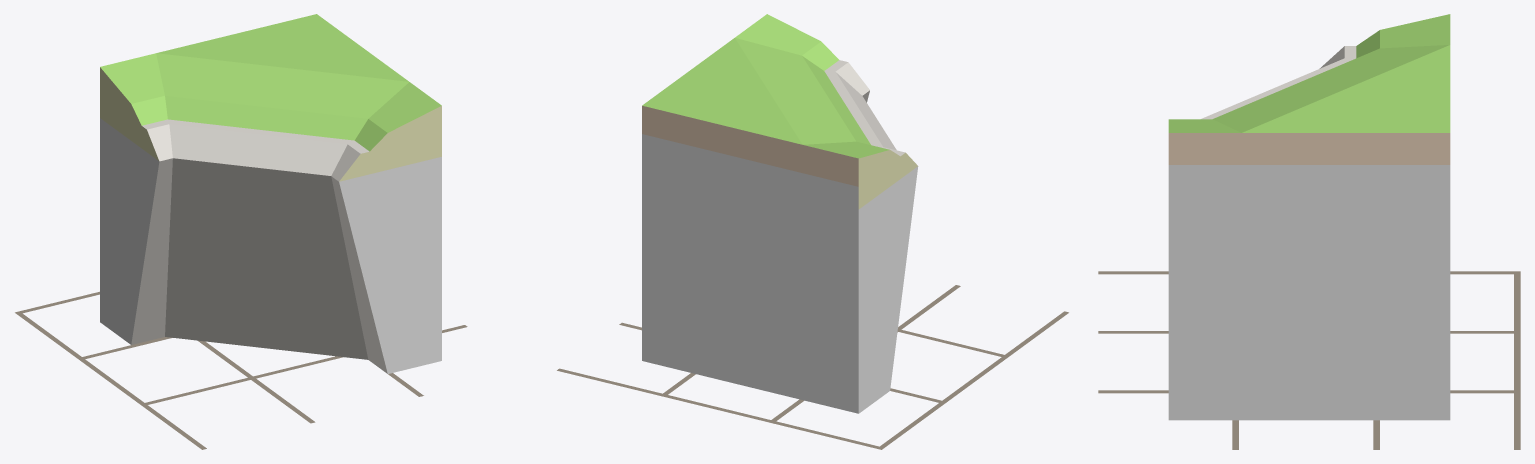
Rendered from Basic_Curve_Inner_2x2_Wide_Top.glb.
The picture shows the model from 3 angles, left to right: view 1: azimuth 30°, elevation 25°; view 2: azimuth 150°, elevation 25°; view 3: azimuth 270°, elevation 25°; orthographic projection. The views are drawn at different scales.
Visible parts, largest first — view 1: Basic_Curve_Inner_2x2_Wide_Top, Floor; view 2: Basic_Curve_Inner_2x2_Wide_Top, Floor; view 3: Basic_Curve_Inner_2x2_Wide_Top, Floor.
Boxes of the visible parts, box(x1,y1,x2,y2) form: Basic_Curve_Inner_2x2_Wide_Top: box(100, 14, 441, 373); Floor: box(15, 291, 467, 449); Basic_Curve_Inner_2x2_Wide_Top: box(642, 14, 918, 413); Floor: box(557, 285, 1068, 449); Basic_Curve_Inner_2x2_Wide_Top: box(1168, 14, 1450, 420); Floor: box(1098, 271, 1520, 449).
Bounding box in the file's own units: 300 × 225 × 300.
Materials: 6 (1 with a texture image).
